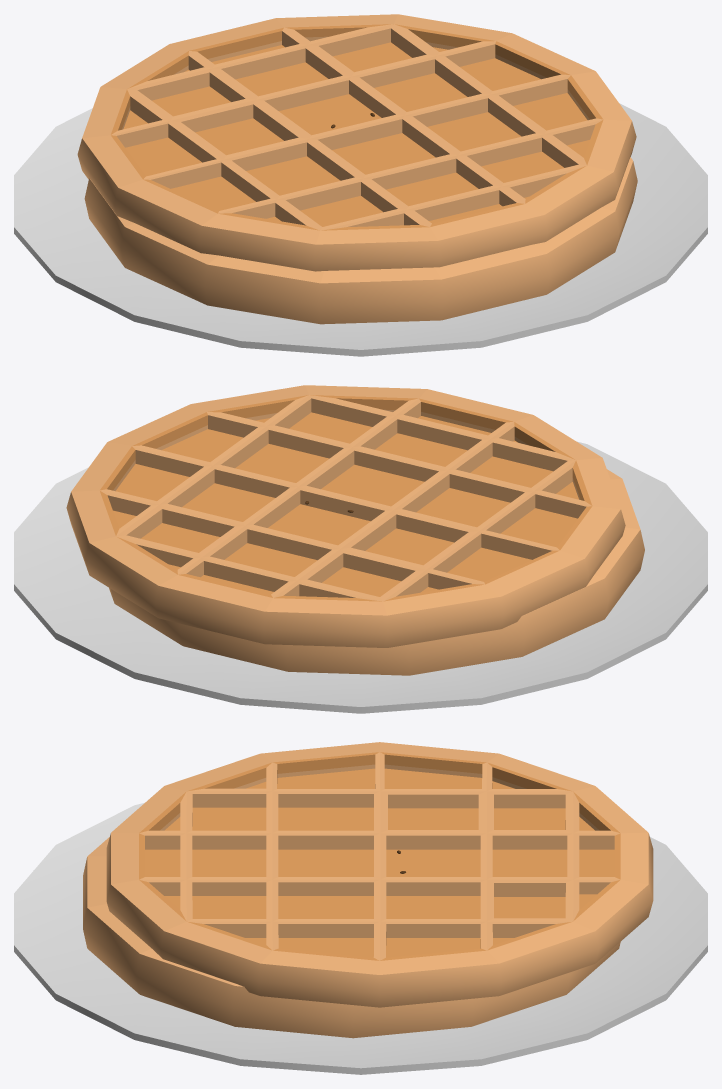
The model's file is waffle2.FBX.
The picture shows the model from 3 angles, top to bottom: view 1: azimuth 30°, elevation 25°; view 2: azimuth 150°, elevation 25°; view 3: azimuth 270°, elevation 25°; orthographic projection.
Visible parts, largest first — view 1: Cylinder002, Cylinder001 (×2); view 2: Cylinder002, Cylinder001 (×2); view 3: Cylinder002, Cylinder001 (×2).
Part boxes in pixels (x1,y1,x2,y2): Cylinder002: (77, 14, 636, 271); Cylinder001 (×2): (14, 103, 707, 356); Cylinder002: (66, 385, 625, 647); Cylinder001 (×2): (14, 441, 707, 713); Cylinder002: (106, 742, 653, 1007); Cylinder001 (×2): (14, 802, 707, 1074).
Bounding box in the file's own units: 160 × 24.06 × 157.
